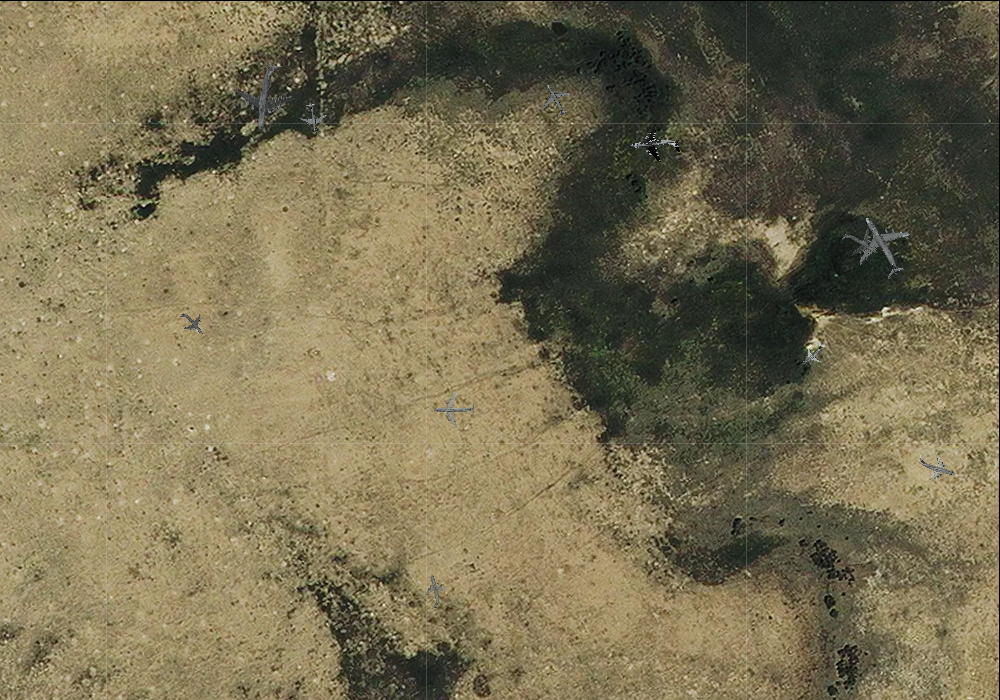plane: (838, 201, 926, 290), (229, 58, 303, 135), (834, 218, 886, 269), (629, 120, 682, 169), (913, 445, 960, 488), (533, 77, 577, 122), (433, 389, 475, 429), (415, 571, 452, 612), (172, 304, 210, 343), (794, 336, 831, 372), (296, 101, 329, 134)
